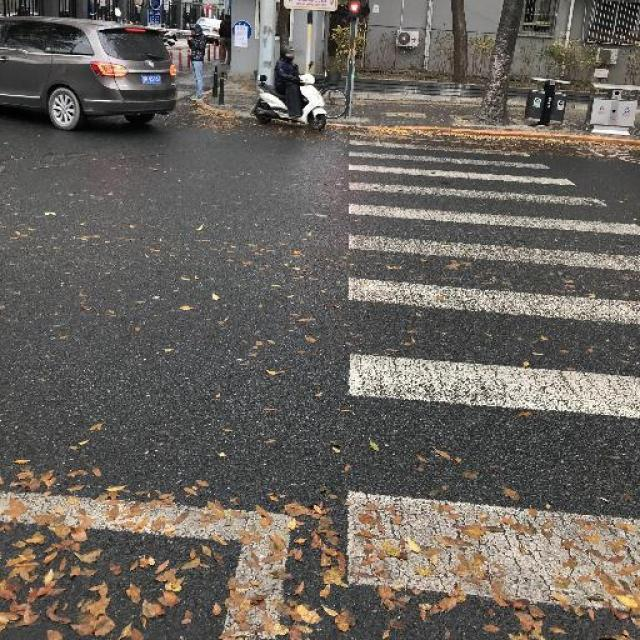crosswalk: (345, 127, 640, 618)
